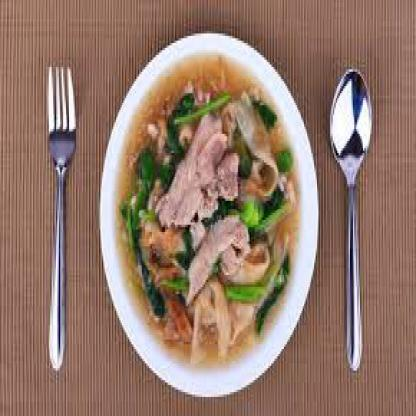Laadna: (104, 38, 309, 394)
